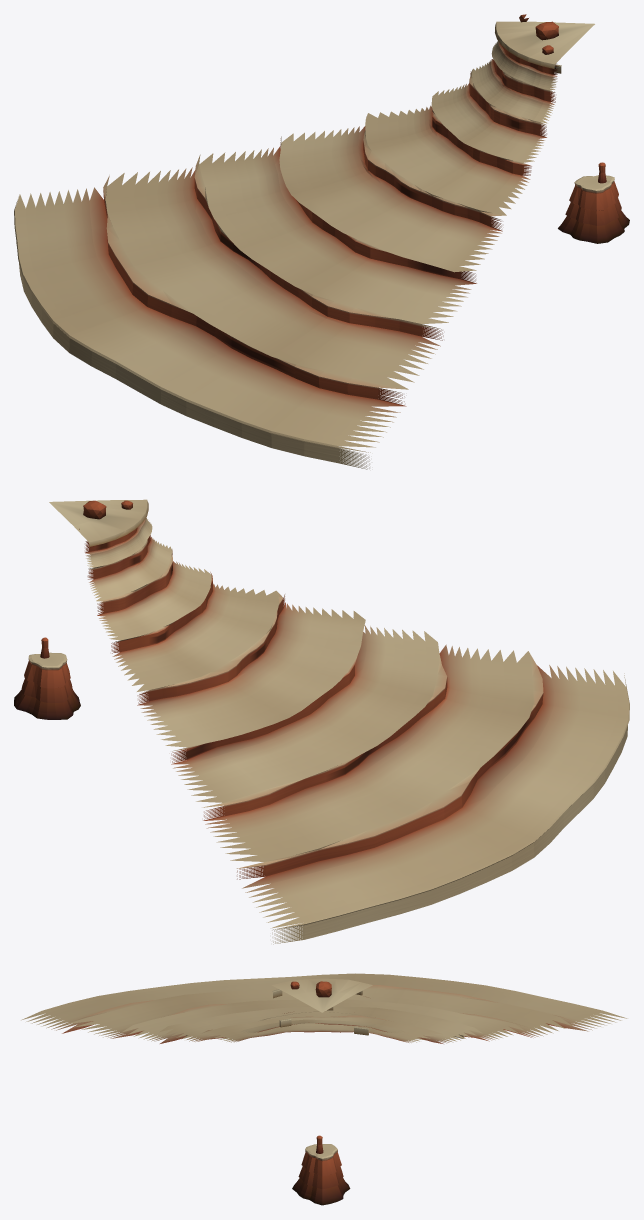
Rendered from canyon-s4-LG4fetFK.glb.
The picture shows the model from 3 angles, top to bottom: view 1: azimuth 30°, elevation 25°; view 2: azimuth 150°, elevation 25°; view 3: azimuth 270°, elevation 25°; orthographic projection. The views are drawn at different scales.
Parts seen in each view (by area): view 1: sc_landmark_2, sc_mesa_0; view 2: sc_landmark_2, sc_mesa_0; view 3: sc_landmark_2, sc_mesa_0.
Boxes of the visible parts, x1=… form: sc_landmark_2: x1=14, y1=14, x2=594, y2=469; sc_mesa_0: x1=558, y1=162, x2=629, y2=243; sc_landmark_2: x1=49, y1=499, x2=629, y2=944; sc_mesa_0: x1=14, y1=637, x2=80, y2=719; sc_landmark_2: x1=21, y1=973, x2=627, y2=1043; sc_mesa_0: x1=292, y1=1135, x2=350, y2=1205.
Size of the model in its own units: 459 by 187 by 520.
